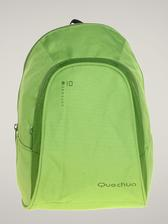bag: (11, 17, 157, 210)
